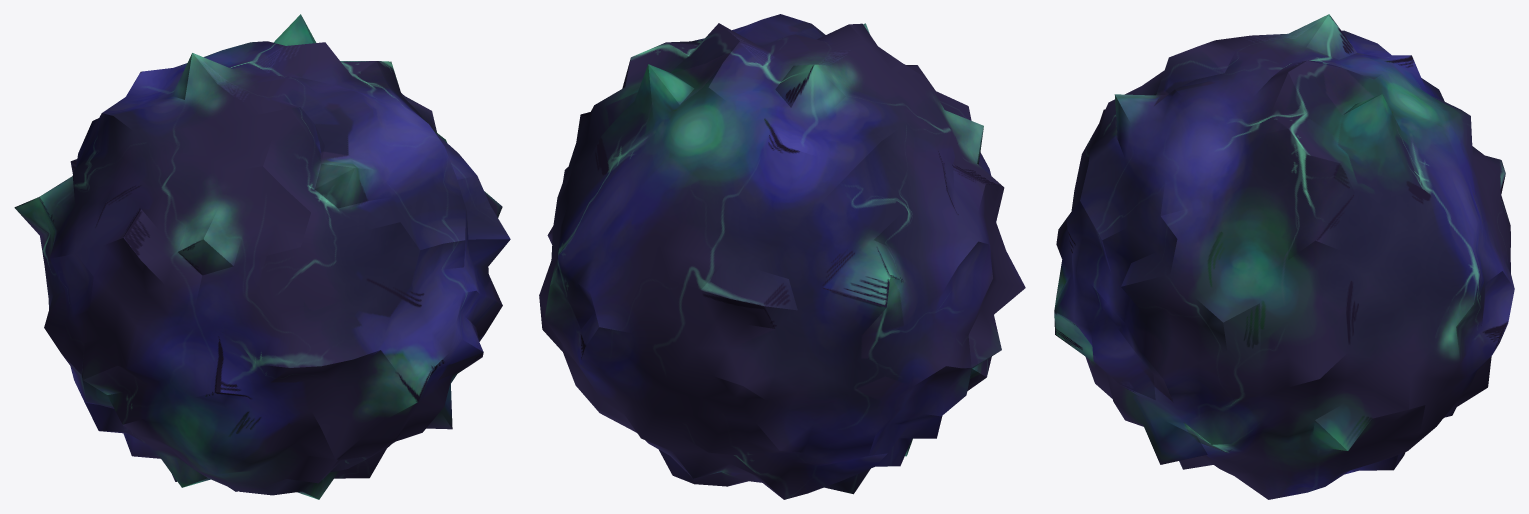
File: planet_Crystal_surface_iteration_1.gltf
The picture shows the model from 3 angles, left to right: view 1: azimuth 30°, elevation 25°; view 2: azimuth 150°, elevation 25°; view 3: azimuth 270°, elevation 25°; orthographic projection. The views are drawn at different scales.
Parts seen in each view (by area): view 1: planet_crystal_surface; view 2: planet_crystal_surface; view 3: planet_crystal_surface.
Part boxes in pixels (x1,y1,x2,y2): planet_crystal_surface: (14, 14, 510, 499); planet_crystal_surface: (539, 14, 1025, 499); planet_crystal_surface: (1054, 14, 1514, 499).
Size of the model in its own units: 11.4 by 11.15 by 11.01.
Materials: 1 (1 with a texture image).
